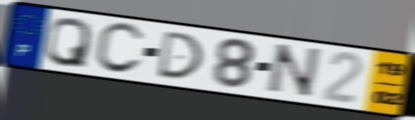2: (319, 50, 367, 106)
8: (210, 37, 257, 90)
C: (92, 21, 147, 76)
D: (154, 30, 206, 81)
N: (262, 42, 325, 100)
Q: (43, 16, 94, 70)
